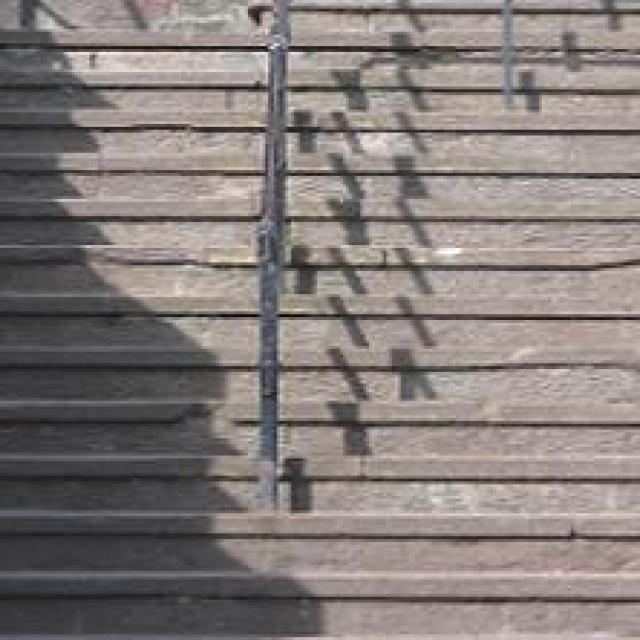upstair: (15, 24, 621, 477)
